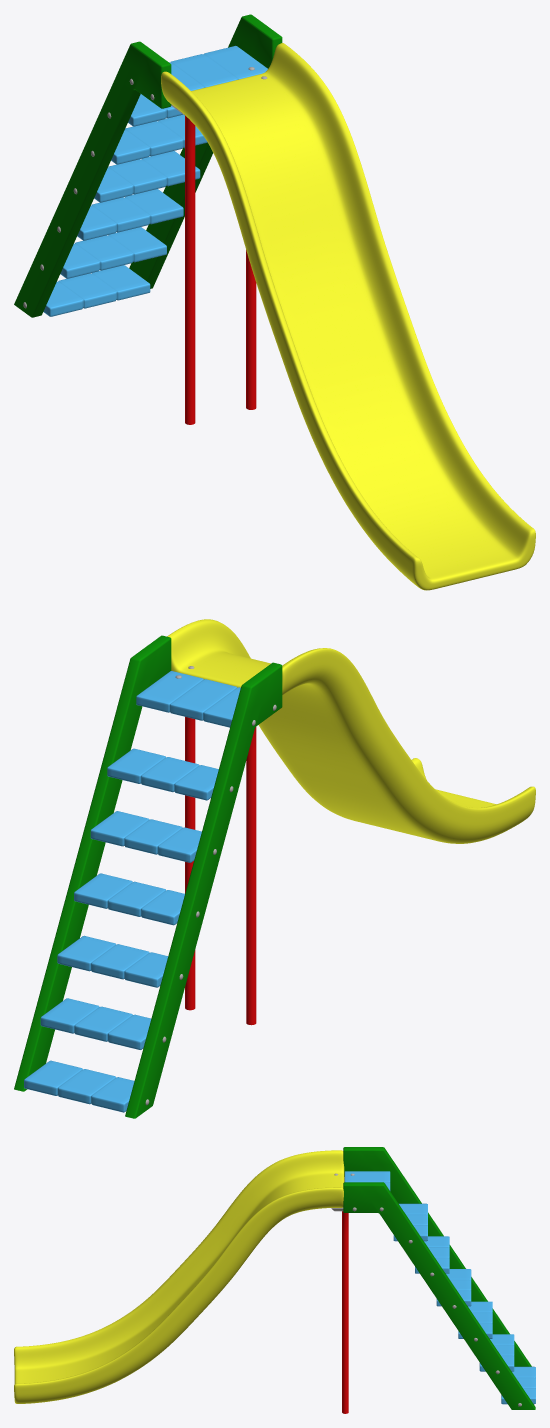
Rendered from slide.glb.
The picture shows the model from 3 angles, top to bottom: view 1: azimuth 30°, elevation 25°; view 2: azimuth 150°, elevation 25°; view 3: azimuth 270°, elevation 25°; orthographic projection. The views are drawn at different scales.
Visible parts, largest first — view 1: Slide; view 2: Slide; view 3: Slide.
Boxes of the visible parts, x1,y1,x2,y2 form: Slide: (14, 14, 535, 590); Slide: (14, 619, 535, 1118); Slide: (14, 1147, 535, 1413).
Bounding box in the file's own units: 0.6492 × 1.82 × 3.63.
2 materials, 2 textured.
